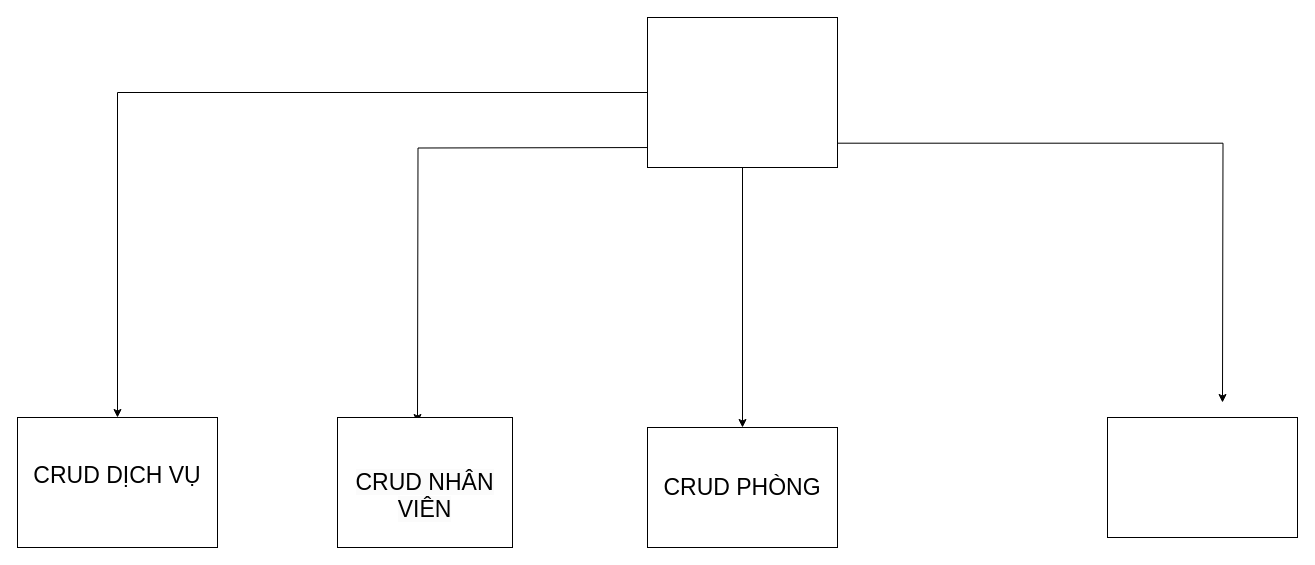
This 1315x565 diagram has some shape labels left out. The shapes that lost their labels are listed below. From the top down, each one's centre as x and y in pixels, then its label:
At pixel 742 92: "Ứng dụng quản lí Khách Sạn".
At pixel 1202 477: "THỐNG KÊ".
